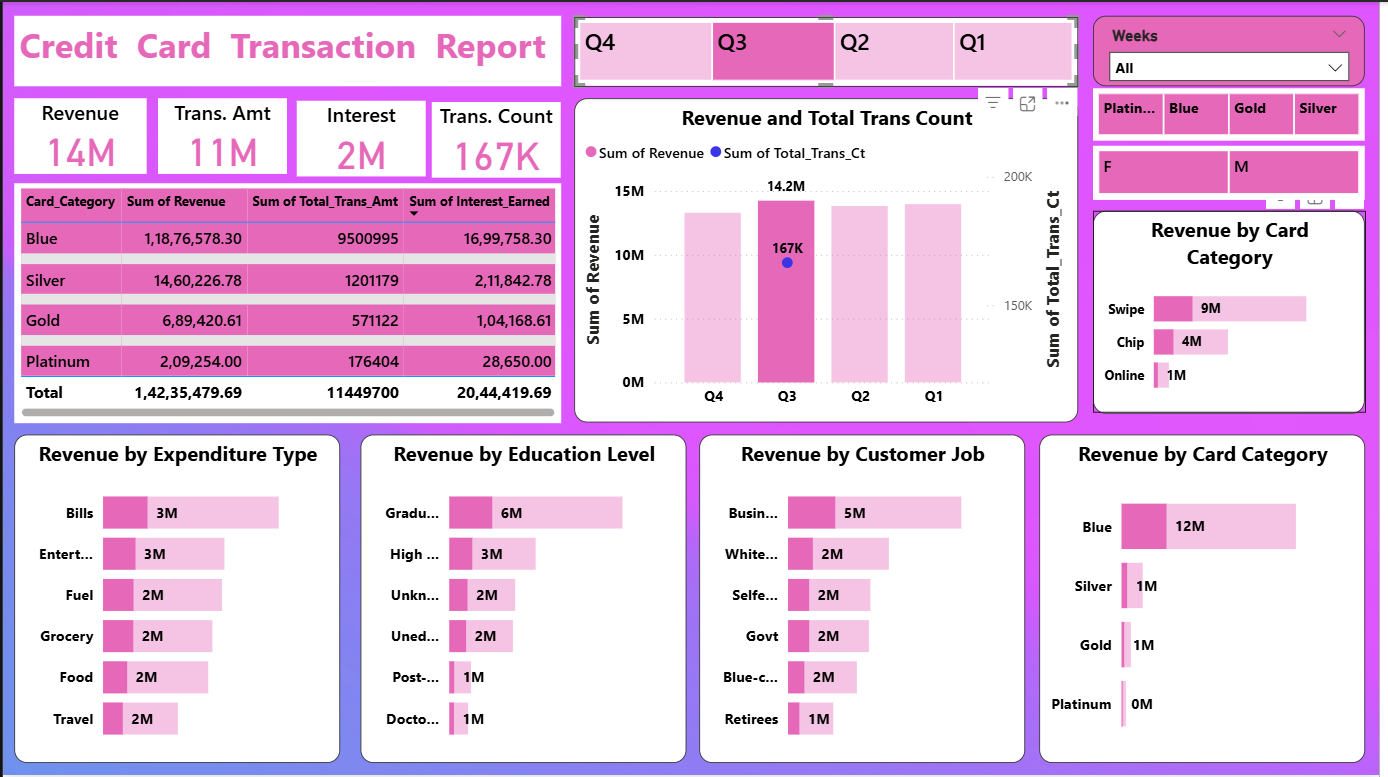

The dashboard page shown, as its layout file describes it:
{"tool":"powerbi","page":{"name":"Page 2","canvas":[1280,720],"ordinal":1},"visuals":[{"type":"textbox","box":[10,12.9,508.6,65.7],"z":0},{"type":"lineStackedColumnComboChart","title":"Revenue and Total Trans  Count","fields":{"Category":["ccdb cc_detail.Qtr"],"Y":["Sum(ccdb cc_detail.Revenue)"],"Y2":["Sum(ccdb cc_detail.Total_Trans_Ct)"]},"box":[531.4,90,468.6,301.4],"z":1000},{"type":"barChart","title":" Revenue by Expenditure Type","fields":{"Y":["Sum(ccdb cc_detail.Revenue)"],"Category":["ccdb cc_detail.Exp_Type"]},"box":[10,402.9,303,305.7],"z":2000},{"type":"barChart","title":" Revenue by Education Level","fields":{"Y":["Sum(ccdb cc_detail.Revenue)"],"Category":["ccdb cust_detail.Education_Level"]},"box":[332.9,402.9,303,305.7],"z":3000},{"type":"barChart","title":" Revenue by Customer Job","fields":{"Y":["Sum(ccdb cc_detail.Revenue)"],"Category":["ccdb cust_detail.Customer_Job"]},"box":[647.1,402.9,302.9,305.7],"z":4000},{"type":"barChart","title":" Revenue by Card Category","fields":{"Y":["Sum(ccdb cc_detail.Revenue)"],"Category":["ccdb cc_detail.Card_Category"]},"box":[964.3,402.9,302.9,305.7],"z":5000},{"type":"barChart","title":" Revenue by Card Category","fields":{"Y":["Sum(ccdb cc_detail.Revenue)"],"Category":["ccdb cc_detail.Use_Chip"]},"box":[1014.3,194.3,252.9,188.6],"z":6000},{"type":"tableEx","fields":{"Values":["ccdb cc_detail.Card_Category","Sum(ccdb cc_detail.Revenue)","Sum(ccdb cc_detail.Total_Trans_Amt)","Sum(ccdb cc_detail.Interest_Earned)"]},"box":[10,168.6,508.6,222.9],"z":7000},{"type":"card","title":"Interest ","fields":{"Values":["Sum(ccdb cc_detail.Interest_Earned)"]},"box":[272.9,91.4,120,70],"z":8000},{"type":"card","title":"Revenue","fields":{"Values":["Sum(ccdb cc_detail.Revenue)"]},"box":[10,90,122.9,70],"z":9000},{"type":"card","title":"Trans. Amt","fields":{"Values":["Sum(ccdb cc_detail.Total_Trans_Amt)"]},"box":[144.3,90,120,70],"z":10000},{"type":"card","title":"Trans. Count","fields":{"Values":["Sum(ccdb cc_detail.Total_Trans_Ct)"]},"box":[398.6,92.9,120,70],"z":11000},{"type":"slicer","fields":{"Values":["ccdb cc_detail.Week_Start_Date"]},"box":[1014.3,12.9,252.9,65.7],"z":12000},{"type":"treemap","fields":{"Group":["ccdb cc_detail.Qtr"],"Values":["Avg(ccdb cc_detail.Client_Num)"]},"box":[531.4,14.3,468.6,64.3],"z":13000},{"type":"treemap","fields":{"Group":["ccdb cust_detail.Gender"],"Values":["Avg(ccdb cc_detail.Client_Num)"]},"box":[1014.3,134.3,252.9,50],"z":14000},{"type":"treemap","fields":{"Group":["ccdb cc_detail.Card_Category"],"Values":["Avg(ccdb cc_detail.Client_Num)"]},"box":[1014.3,80,252.9,48.6],"z":15000}]}

Visuals, with their boxes in screenshot pixels (x1, y1, x2, y2), scaled from the page's 1280x720 canvas onto the 1388x777 screenshot:
textbox: <box>11,14,562,85</box>
"Revenue and Total Trans  Count" lineStackedColumnComboChart: <box>576,97,1084,422</box>
" Revenue by Expenditure Type" barChart: <box>11,435,339,765</box>
" Revenue by Education Level" barChart: <box>361,435,690,765</box>
" Revenue by Customer Job" barChart: <box>702,435,1030,765</box>
" Revenue by Card Category" barChart: <box>1046,435,1374,765</box>
" Revenue by Card Category" barChart: <box>1100,210,1374,413</box>
tableEx - ccdb cc_detail.Card_Category x Sum(ccdb cc_detail.Revenue): <box>11,182,562,422</box>
"Interest " card: <box>296,99,426,174</box>
"Revenue" card: <box>11,97,144,173</box>
"Trans. Amt" card: <box>156,97,287,173</box>
"Trans. Count" card: <box>432,100,562,176</box>
slicer - ccdb cc_detail.Week_Start_Date: <box>1100,14,1374,85</box>
treemap - ccdb cc_detail.Qtr x Avg(ccdb cc_detail.Client_Num): <box>576,15,1084,85</box>
treemap - ccdb cust_detail.Gender x Avg(ccdb cc_detail.Client_Num): <box>1100,145,1374,199</box>
treemap - ccdb cc_detail.Card_Category x Avg(ccdb cc_detail.Client_Num): <box>1100,86,1374,139</box>
